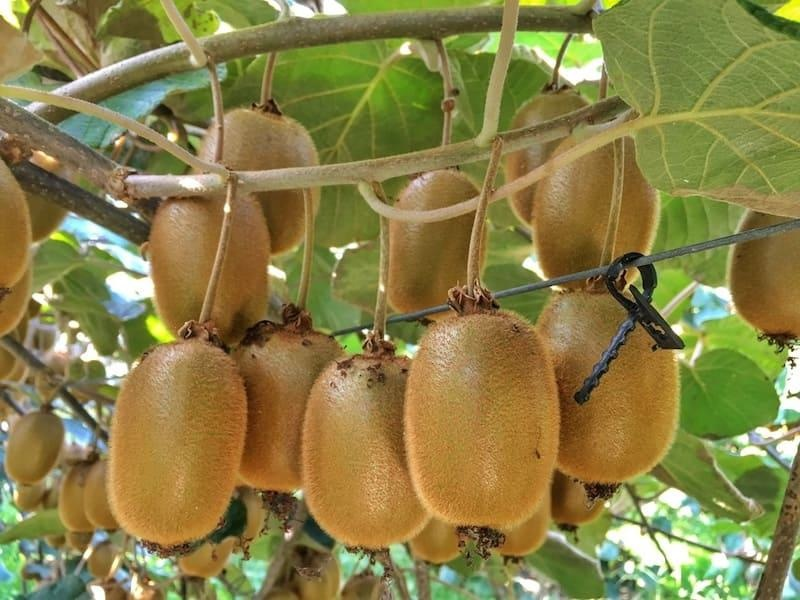apple: (402, 308, 561, 528), (535, 288, 681, 485), (532, 121, 661, 292), (148, 191, 271, 347), (197, 103, 322, 255), (386, 168, 487, 316), (504, 86, 592, 229), (728, 207, 800, 343)
apricot: (2, 83, 685, 595), (402, 308, 561, 528), (105, 337, 249, 552), (535, 287, 681, 486), (532, 122, 661, 292), (147, 189, 272, 346), (197, 103, 322, 255), (384, 168, 488, 316), (504, 87, 593, 229), (728, 207, 799, 345)
grapes: (1, 86, 684, 599), (385, 168, 485, 316), (729, 207, 799, 349)
kiwi: (532, 124, 661, 291), (729, 208, 799, 343)
melon: (2, 81, 687, 595), (402, 308, 561, 528), (106, 337, 249, 552), (535, 287, 681, 486), (532, 122, 661, 292), (197, 104, 322, 255), (385, 168, 488, 316), (728, 207, 799, 343)
potato: (532, 123, 661, 292), (197, 103, 321, 255), (385, 168, 485, 316), (729, 208, 799, 341)
